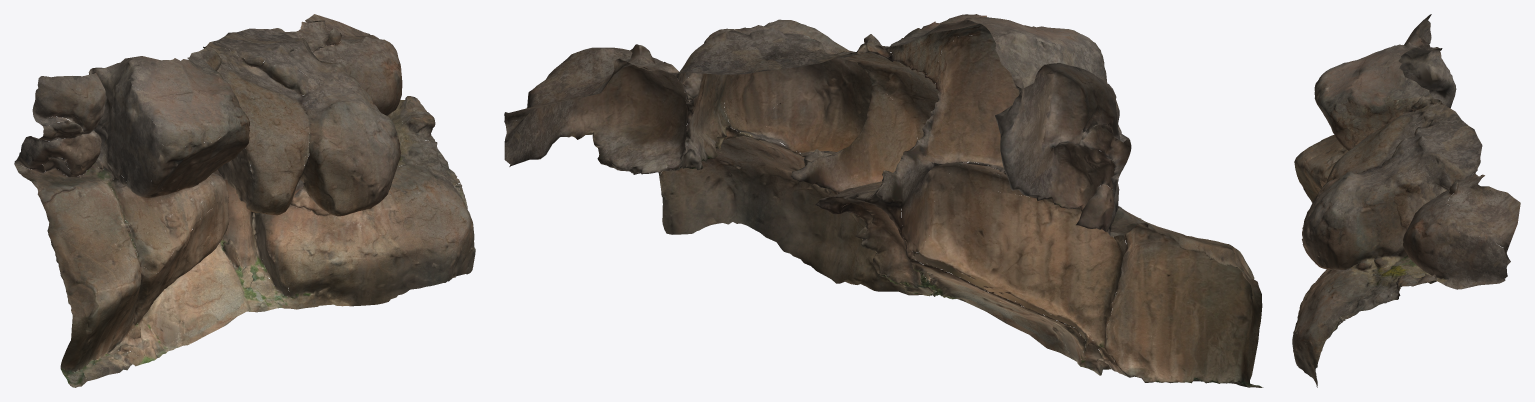
File: bg_cliff_01.glb
3 views of the same model, side by side, from view 1: azimuth 30°, elevation 25°; view 2: azimuth 150°, elevation 25°; view 3: azimuth 270°, elevation 25° (orthographic). The views are drawn at different scales.
Parts seen in each view (by area): view 1: bg_cliff_01; view 2: bg_cliff_01; view 3: bg_cliff_01.
Part boxes in pixels (x1,y1,x2,y2): bg_cliff_01: (14,14,475,387); bg_cliff_01: (504,14,1263,387); bg_cliff_01: (1292,14,1520,387).
Bounding box in the file's own units: 41.73 × 25 × 22.11.
1 material, 1 textured.
